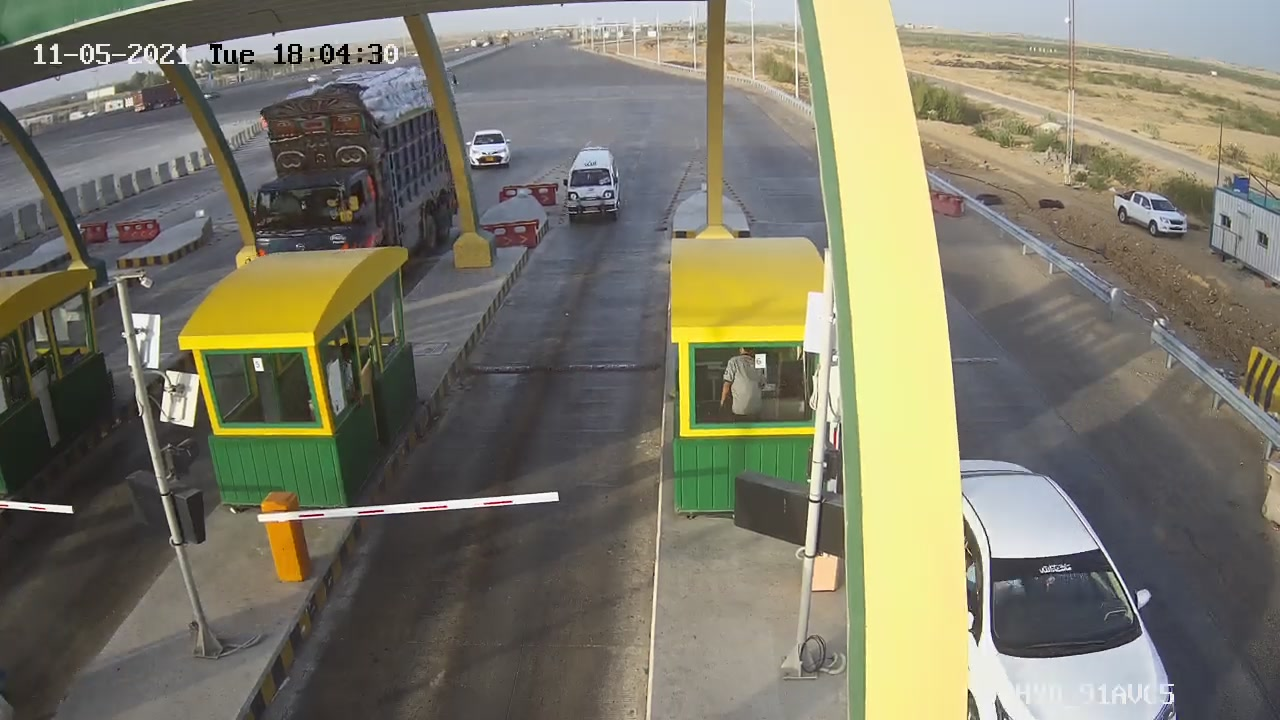F1: (551, 136, 634, 234)
